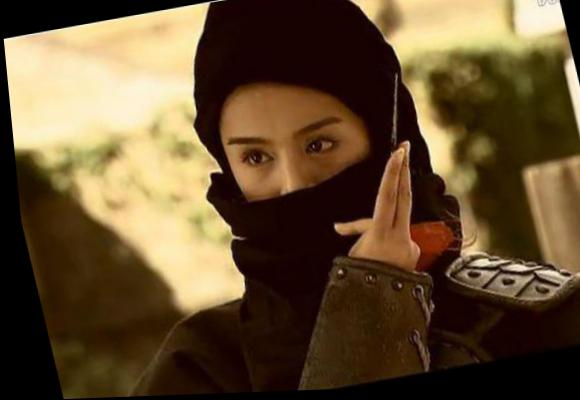WRONG: (205, 107, 391, 285)
